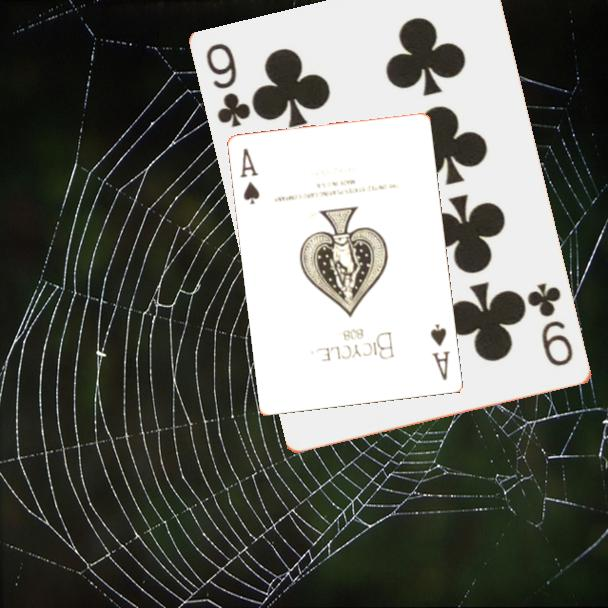c09: (525, 279, 577, 369), (203, 40, 254, 131)
s01: (427, 321, 453, 383), (237, 145, 263, 207)
